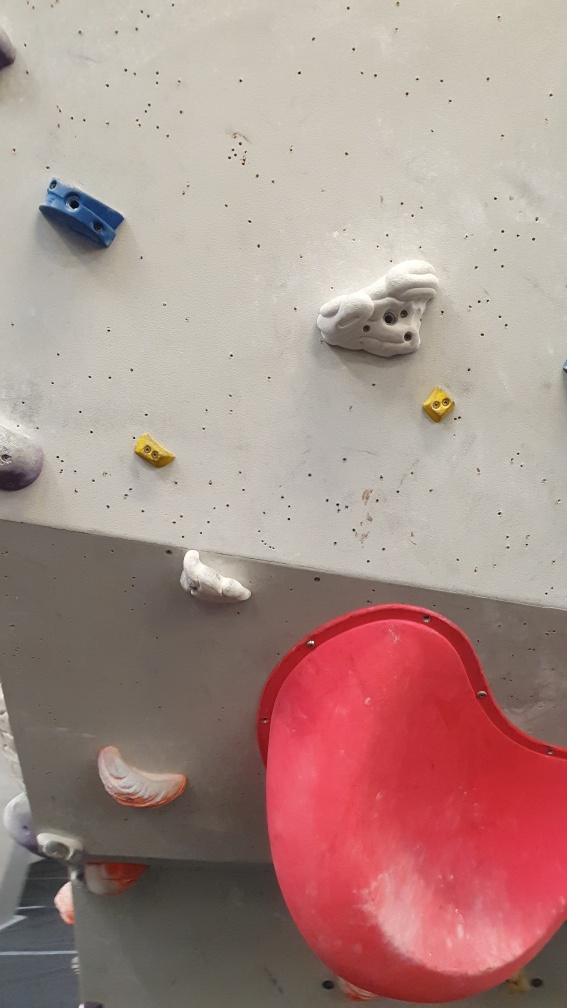Crimp: (130, 429, 179, 469)
Jug: (314, 253, 443, 359), (88, 734, 192, 813), (177, 546, 254, 611)
Pinch: (36, 170, 128, 249), (419, 378, 462, 426)
Sloper: (1, 426, 55, 494)
